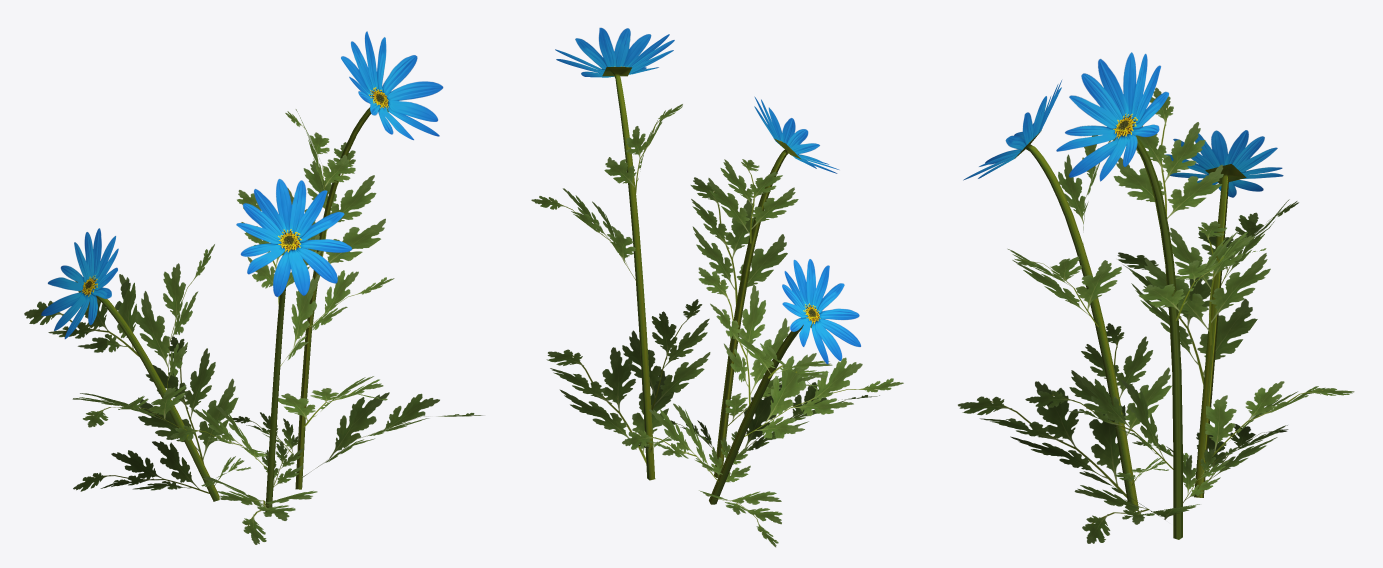
The model's file is blue_flower.glb.
The picture shows the model from 3 angles, left to right: view 1: azimuth 30°, elevation 25°; view 2: azimuth 150°, elevation 25°; view 3: azimuth 270°, elevation 25°; orthographic projection. The views are drawn at different scales.
Visible parts, largest first — view 1: Flower; view 2: Flower; view 3: Flower.
Boxes of the visible parts, bbox=[...] form: Flower: bbox=[24, 31, 483, 544]; Flower: bbox=[531, 27, 903, 547]; Flower: bbox=[958, 52, 1354, 543].
Size of the model in its own units: 0.4282 by 0.4758 by 0.3486.
3 materials, 3 textured.
